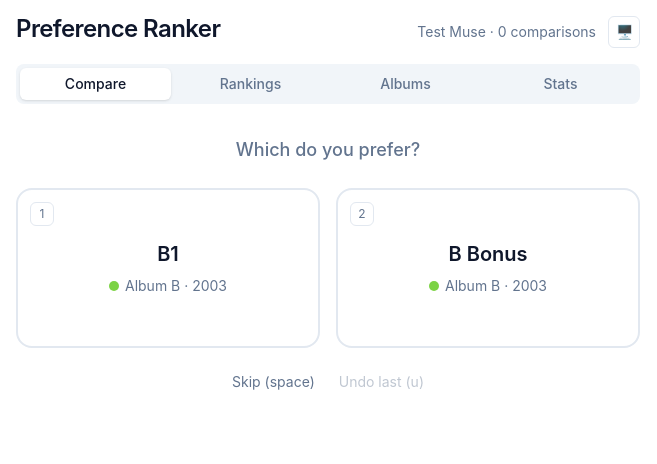
Scenario: App › shows the Bradley-Terry definitive ranking when toggled
Step 1. Click the button with aria-label "choose " → (168, 268), box [16,188,320,348]
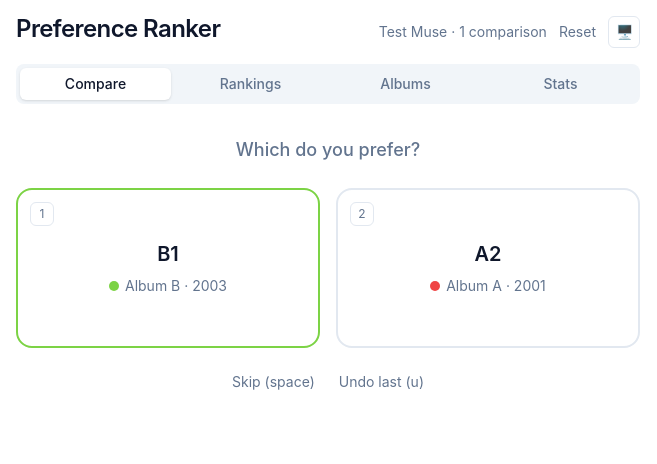
Step 2. Click the button "Rankings" → (250, 84), box [175,68,326,100]
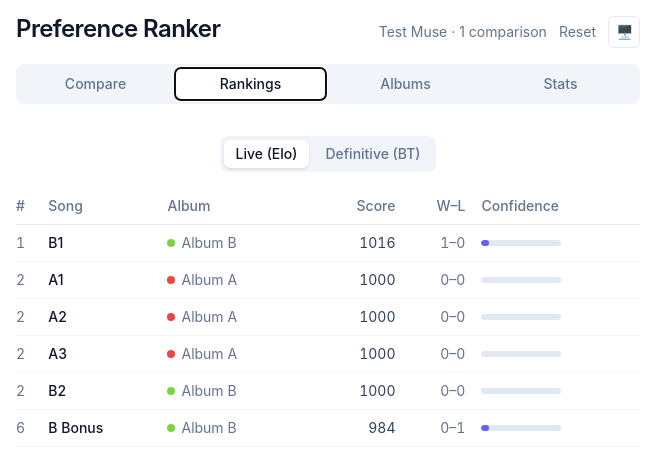
Step 3. Click the button "Definitive (BT)" → (373, 154), box [313,140,432,168]
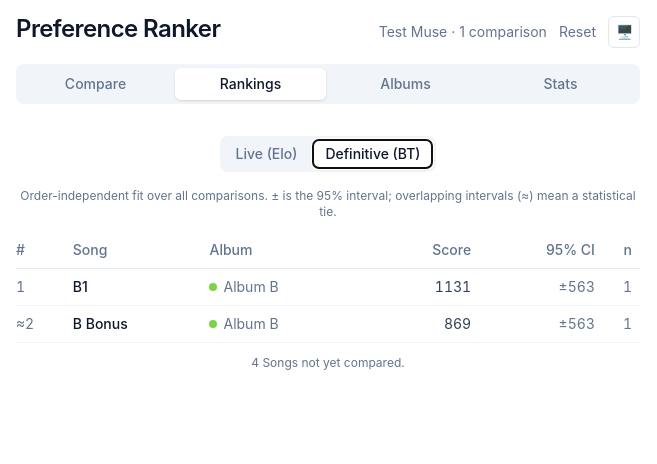
Result: the table is shown at [16,232,640,343]
Result: the text "Order-independent fit" is shown at [20,188,636,219]
Result: the text "4 Songs not yet compared." is shown at [251,355,405,370]
